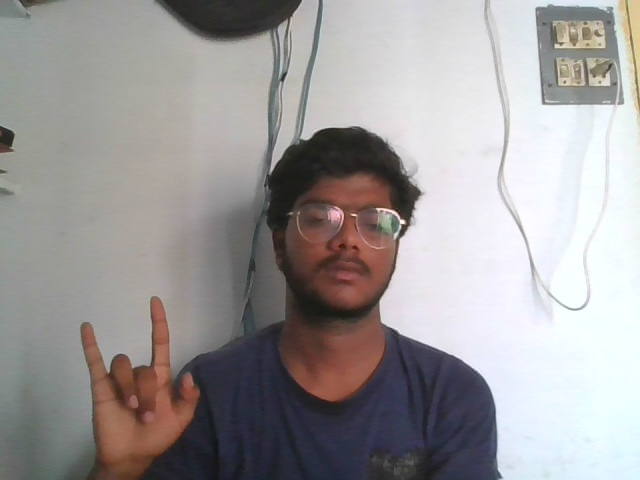IloveYou: (72, 290, 203, 465)
